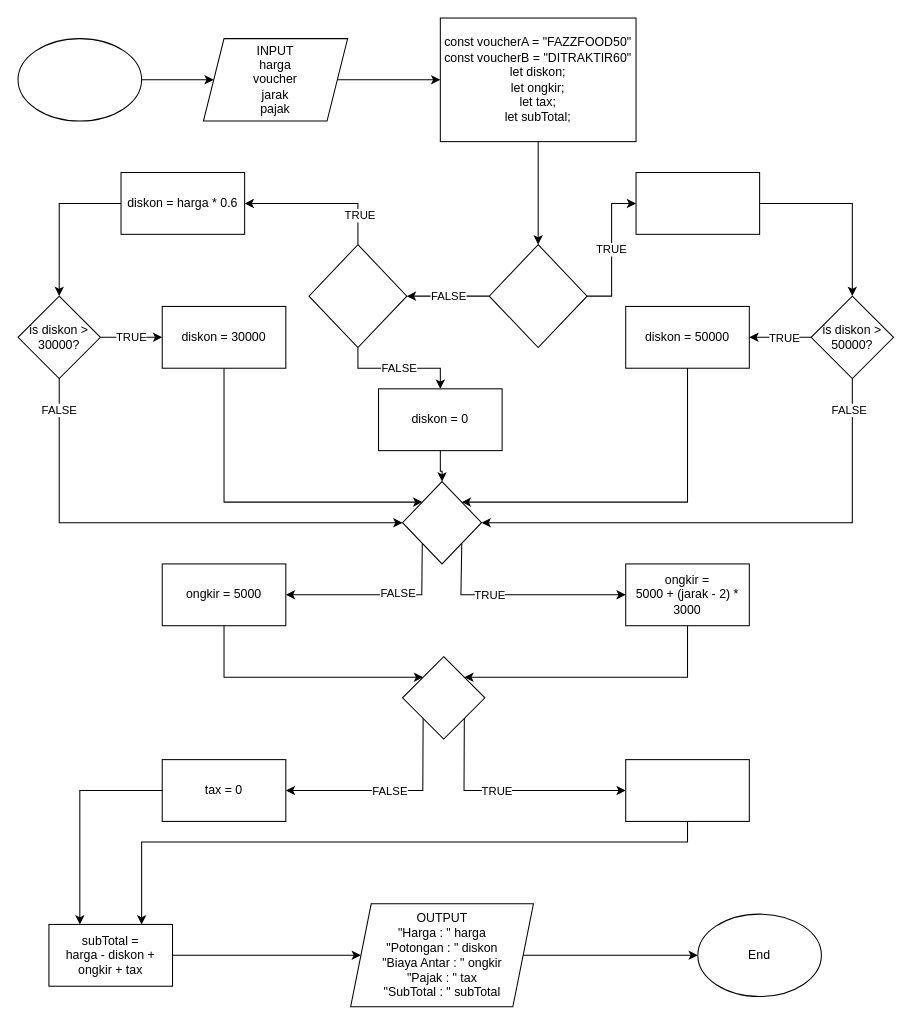
Some shapes in this 912 by 1025 pixel diagram are drawn without their labels. Each missing label, with the box of its shape:
diskon = harga * 0.5: (635, 171, 760, 234)
is jarak > 2?: (401, 480, 482, 564)
is pajak = true?: (401, 656, 485, 739)
is voucher = voucherA & harga >= 50000?: (488, 244, 587, 348)
is voucher = voucherB & harga >= 25000?: (308, 244, 407, 348)
Start: (17, 38, 142, 121)
tax = harga * 0.05: (625, 759, 749, 821)
